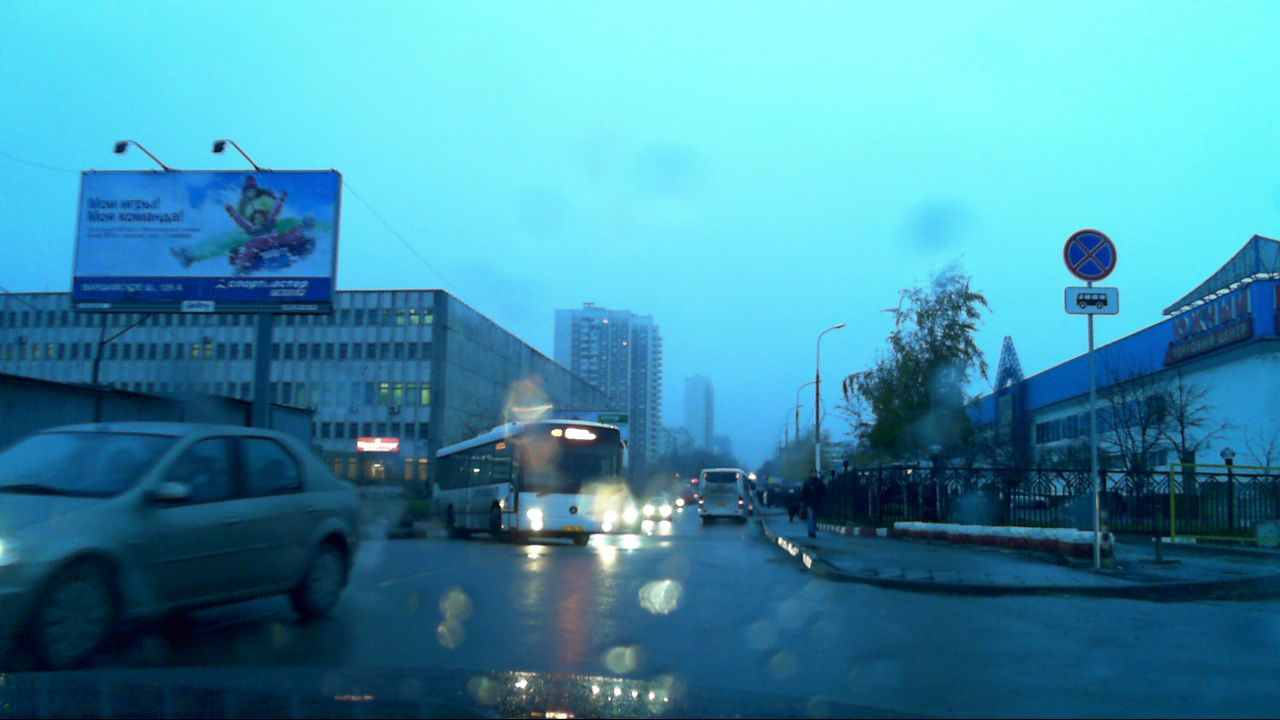No Parking: (1063, 228, 1117, 282)
